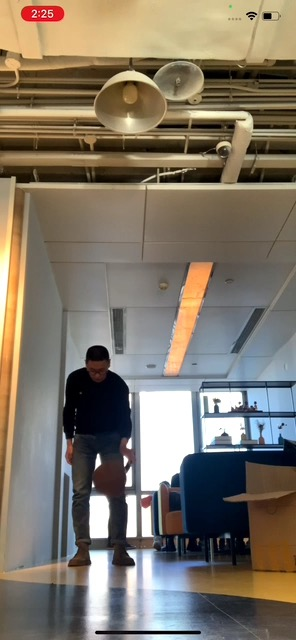ball: (92, 460, 128, 497)
